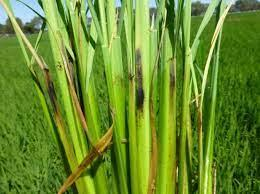Stem Rot: (39, 67, 64, 125), (131, 49, 148, 131), (158, 56, 180, 119)
